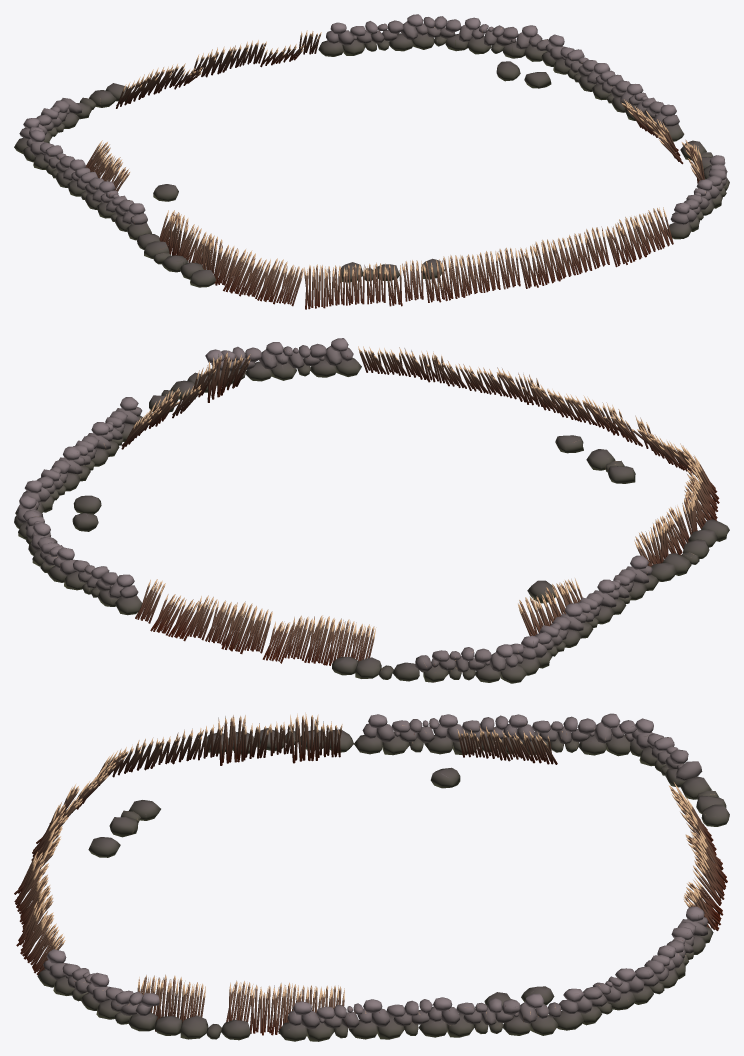
The model's file is Koloseum.fbx.
3 renders of one model, top to bottom at view 1: azimuth 30°, elevation 25°; view 2: azimuth 150°, elevation 25°; view 3: azimuth 270°, elevation 25°, orthographic. The views are drawn at different scales.
Visible parts, largest first — view 1: Cube.061; view 2: Cube.061; view 3: Cube.061.
Boxes of the visible parts, x1,y1,x2,y2 form: Cube.061: (14,14,729,309); Cube.061: (14,338,729,683); Cube.061: (14,712,729,1041).
Bounding box in the file's own units: 3694 × 299 × 3681.
Materials: 1 (1 with a texture image).
